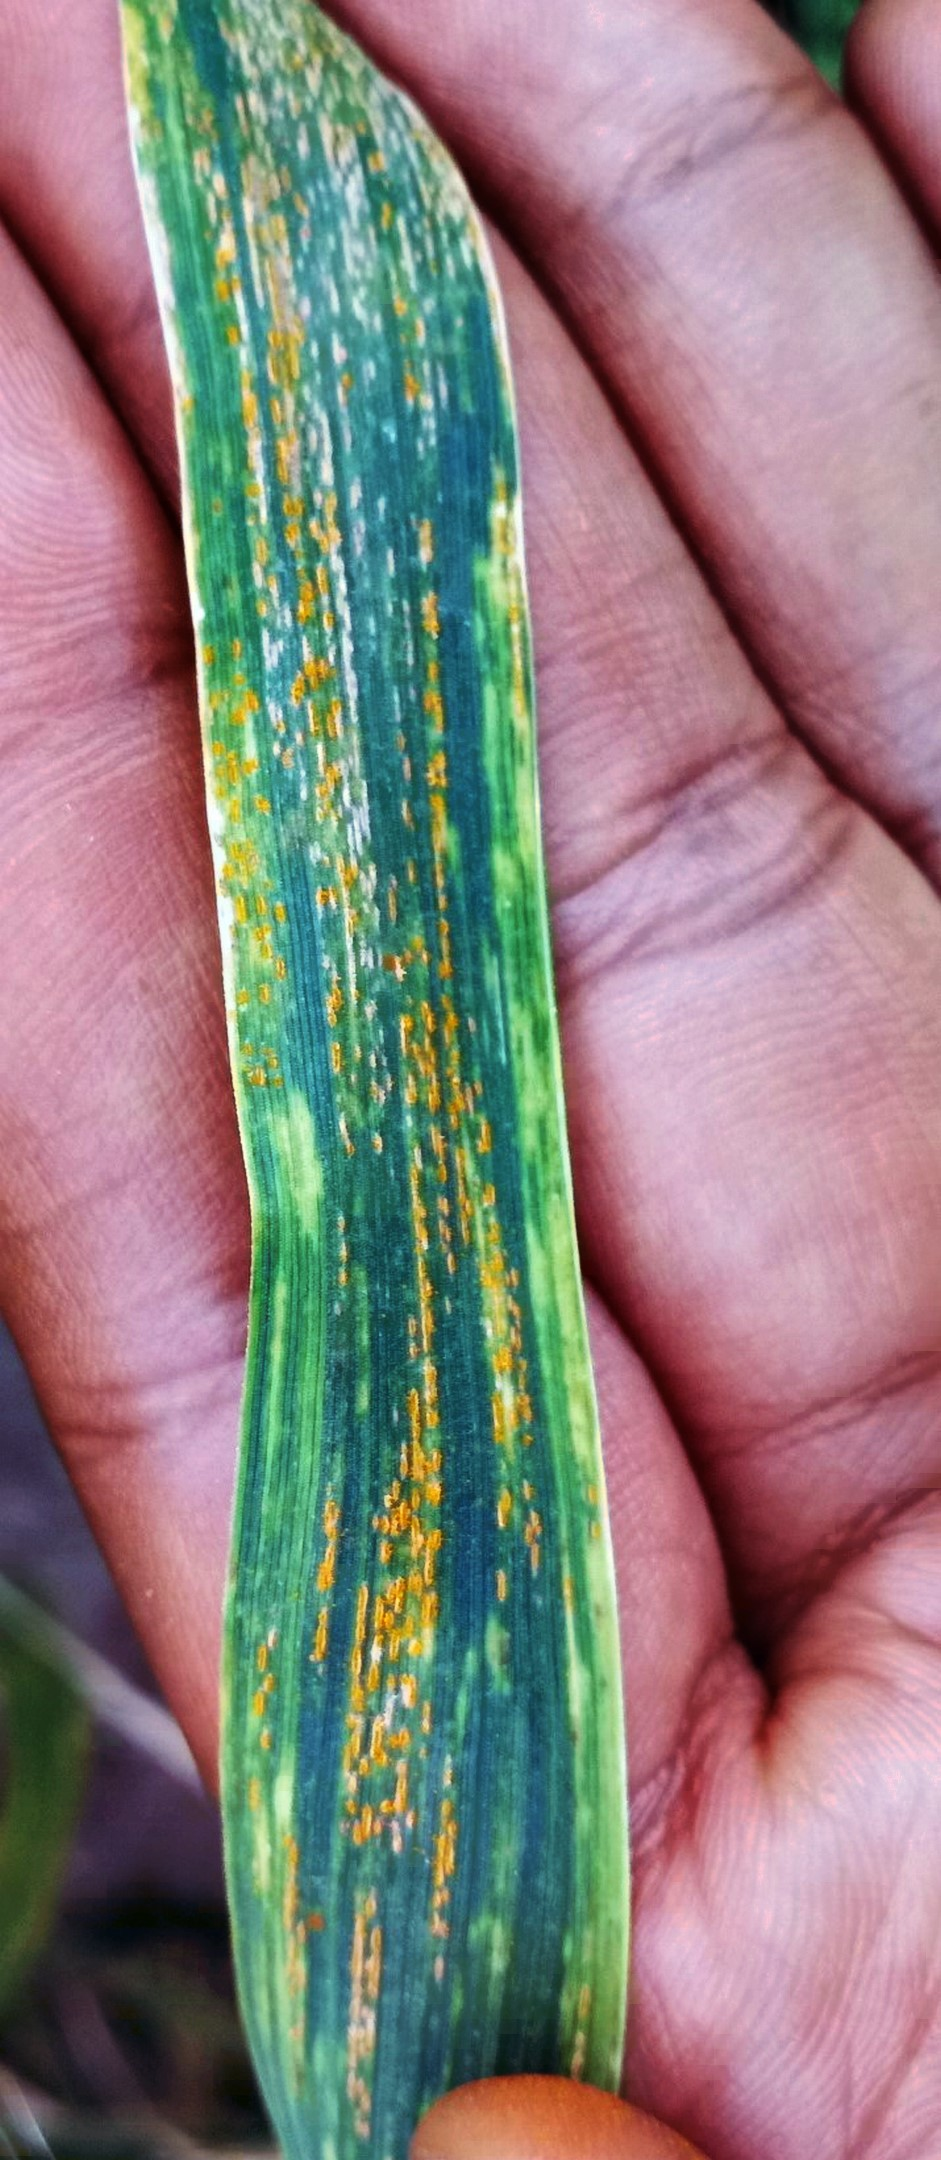Leaf Rust: (127, 222, 639, 1908)
